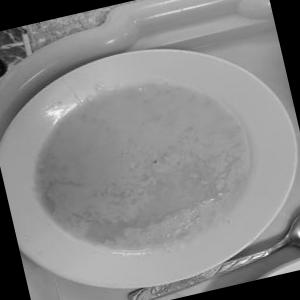porridge: (2, 46, 286, 295)
